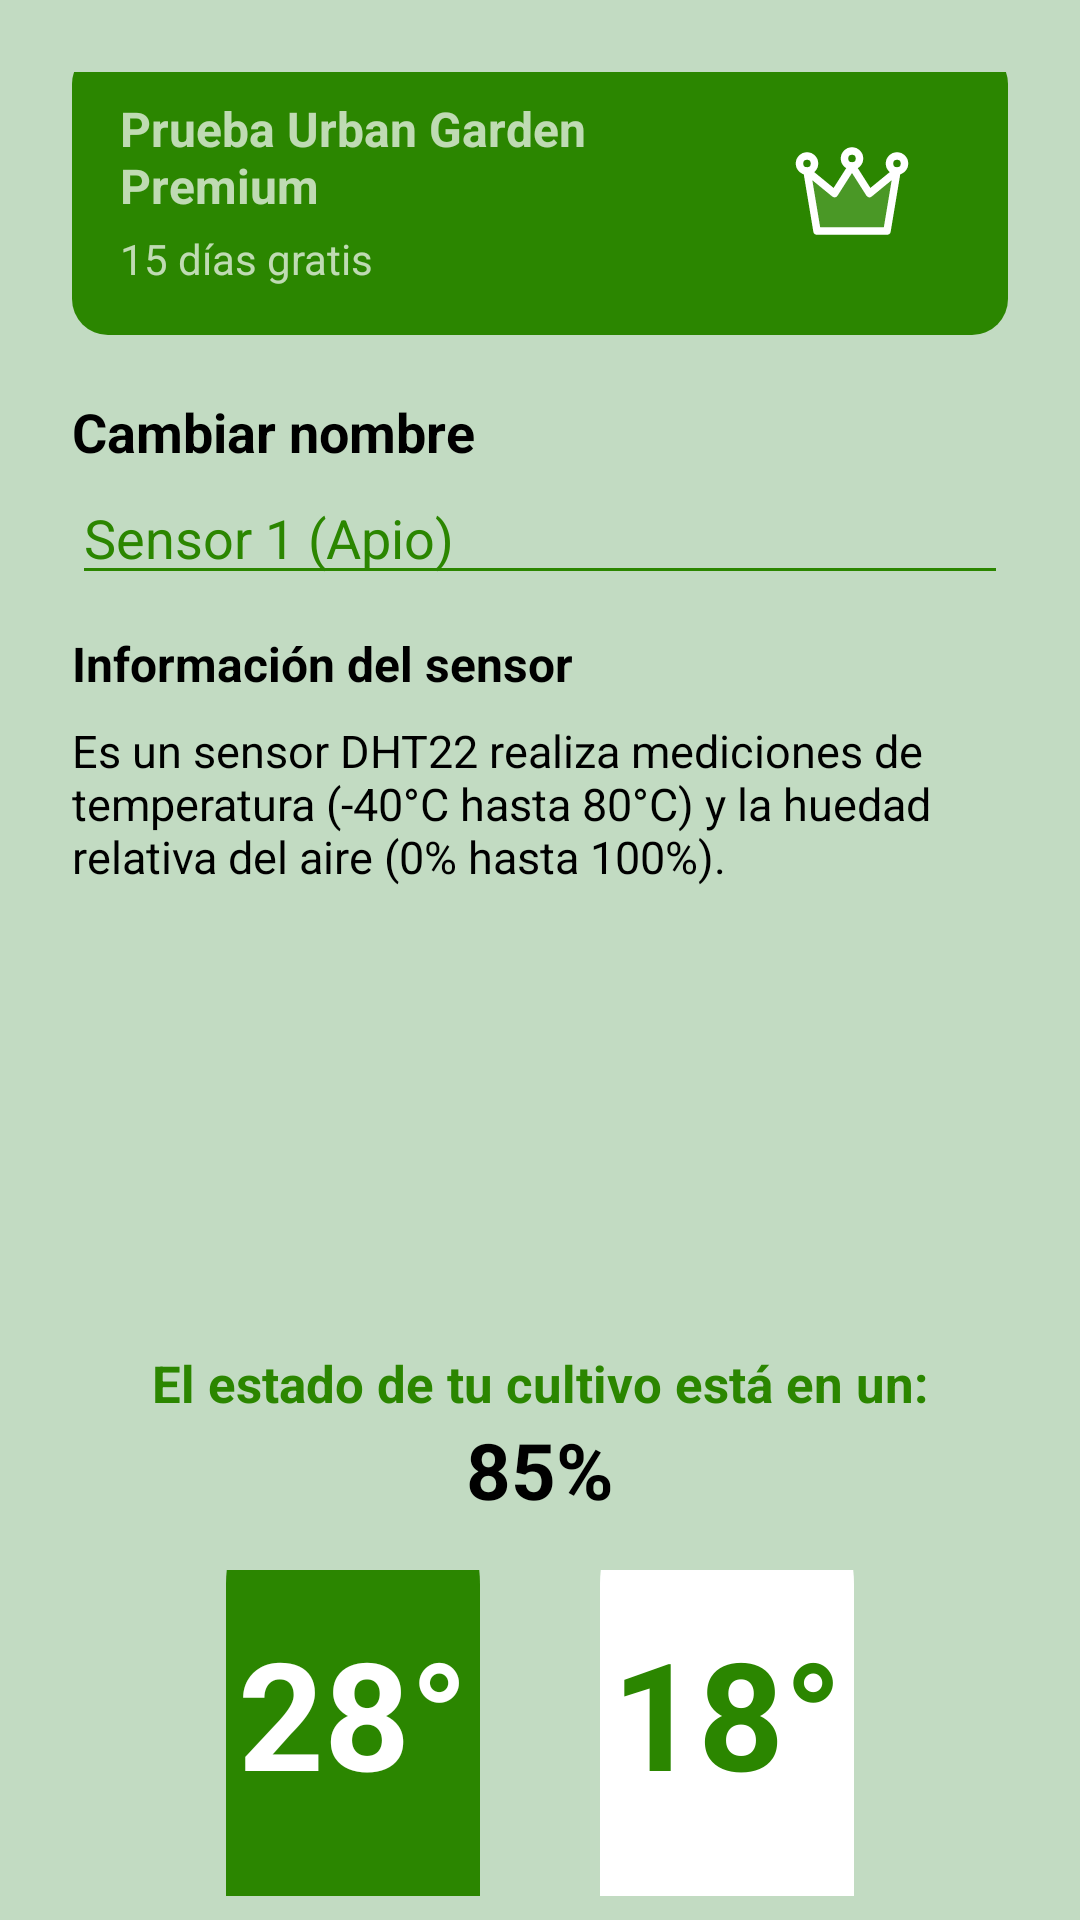

Point at icon controls on the screen. Image size 1080*1920, points as (x,y).
home corona: (852,191)
